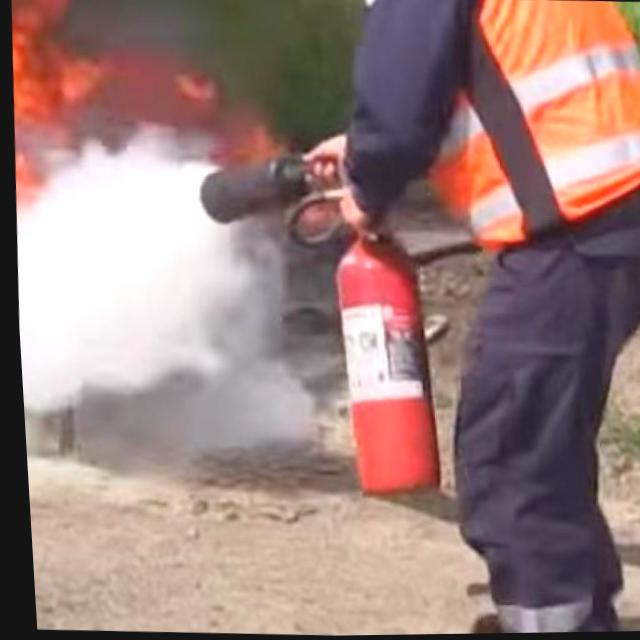FireExtinguisher: (177, 133, 461, 508)
